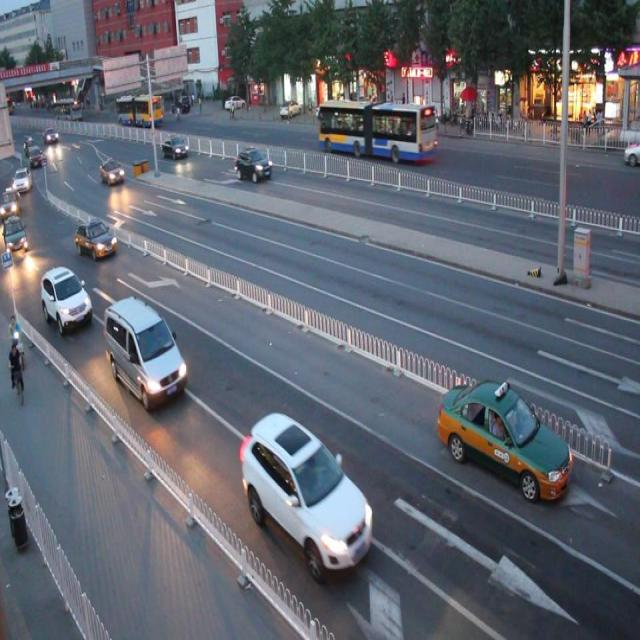car: (238, 412, 374, 574), (436, 381, 572, 500), (102, 296, 188, 408), (41, 266, 92, 334), (75, 217, 118, 259), (235, 145, 270, 184), (163, 135, 187, 157)
van: (319, 100, 437, 160)
